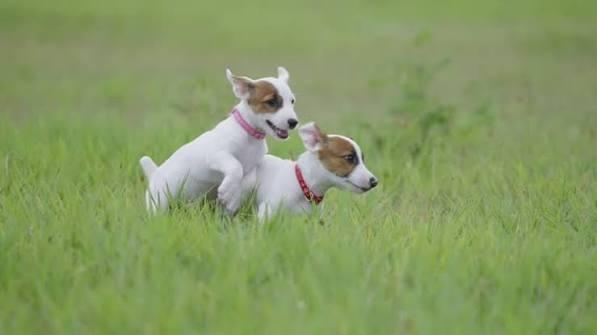adult_dog: (237, 122, 379, 225)
puppy-dog: (139, 65, 300, 217)
